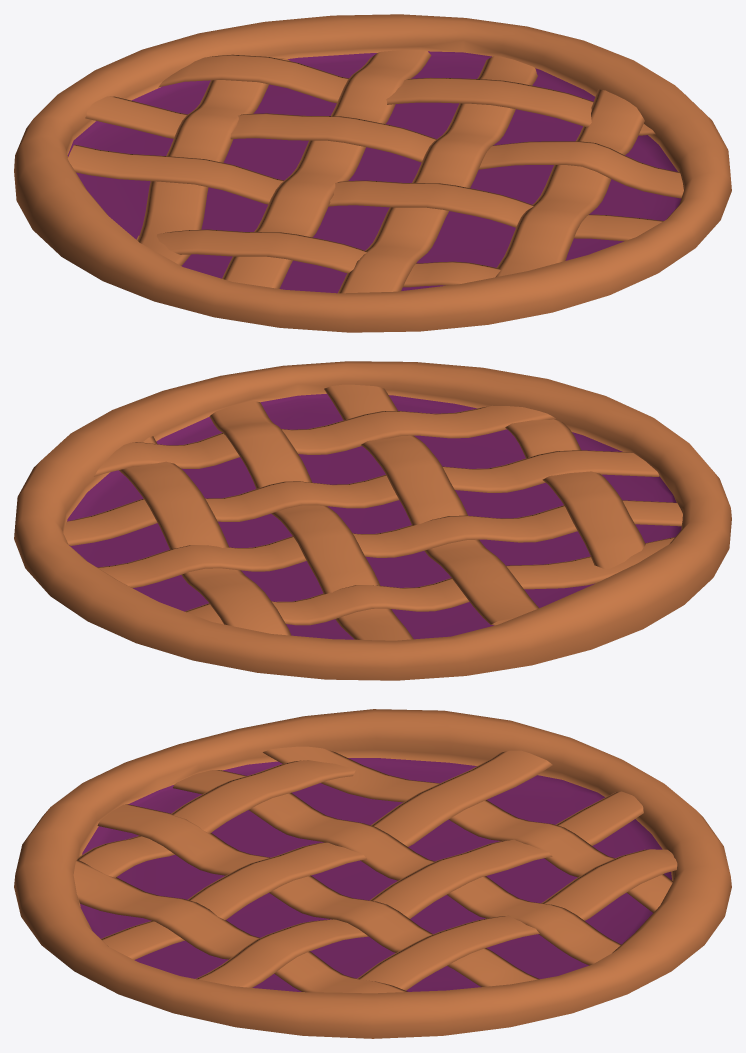
Rendered from crostata_LOD0.fbx.
3 views of the same model, one above another, from view 1: azimuth 30°, elevation 25°; view 2: azimuth 150°, elevation 25°; view 3: azimuth 270°, elevation 25° (orthographic).
Parts seen in each view (by area): view 1: Cube_001; view 2: Cube_001; view 3: Cube_001.
Part boxes in pixels (x1,y1,x2,y2): Cube_001: [14, 14, 731, 332]; Cube_001: [14, 361, 731, 680]; Cube_001: [14, 709, 731, 1038].
Bounding box in the file's own units: 81.04 × 5.97 × 81.04.
